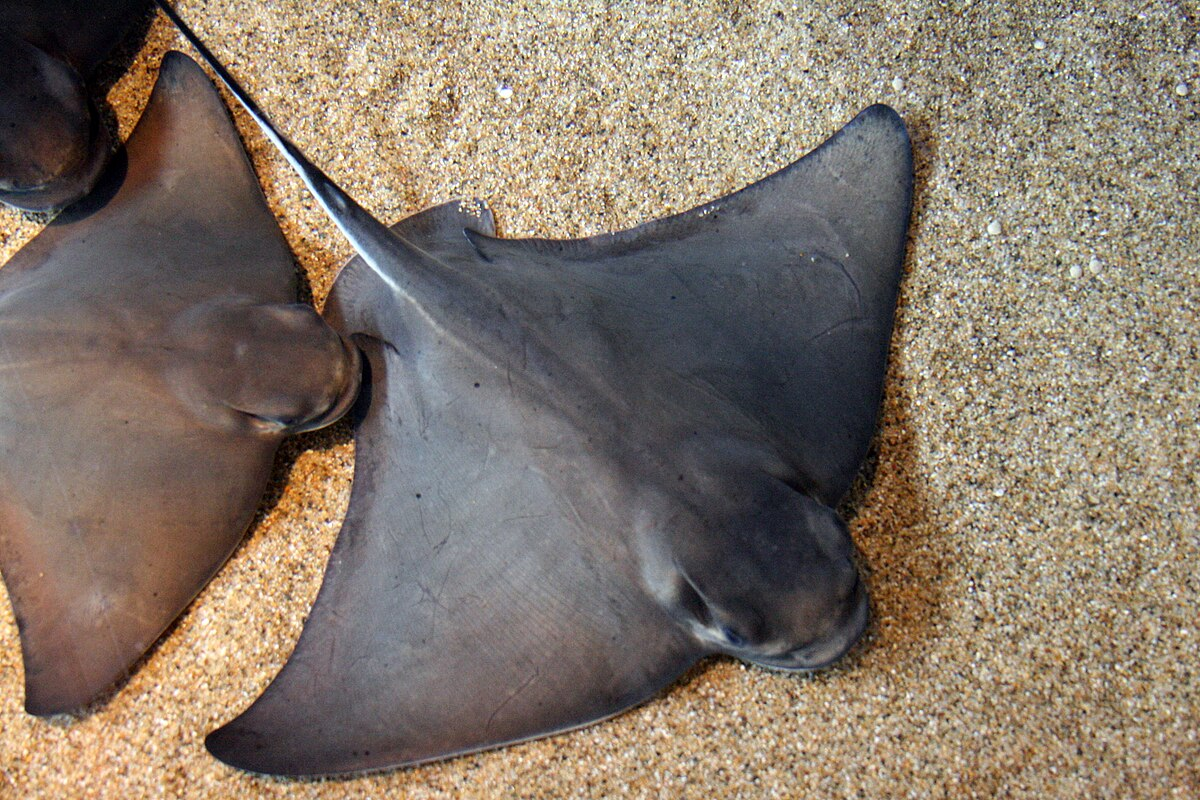Bat Ray: (268, 87, 976, 785)
